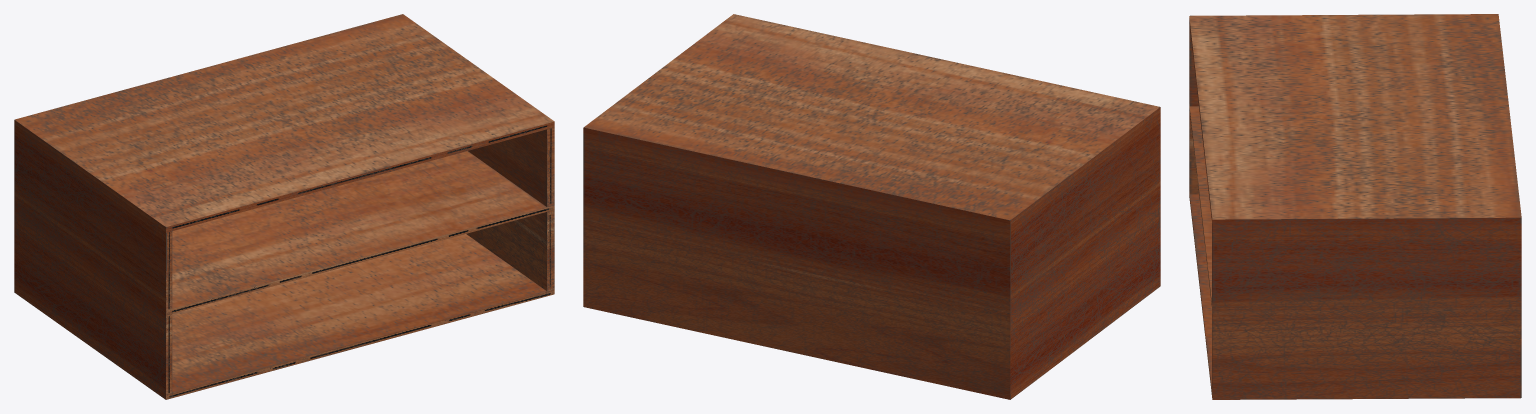
File: ejemplo.glb
3 renders of one model, left to right at view 1: azimuth 30°, elevation 25°; view 2: azimuth 150°, elevation 25°; view 3: azimuth 270°, elevation 25°, orthographic. The views are drawn at different scales.
Parts seen in each view (by area): view 1: Mesh_0; view 2: Mesh_0; view 3: Mesh_0.
Boxes of the visible parts, x1,y1,x2,y2 form: Mesh_0: (14, 14, 554, 399); Mesh_0: (583, 14, 1160, 399); Mesh_0: (1189, 14, 1521, 399).
Bounding box in the file's own units: 18.1 × 7.41 × 12.37.
1 material, 1 textured.
